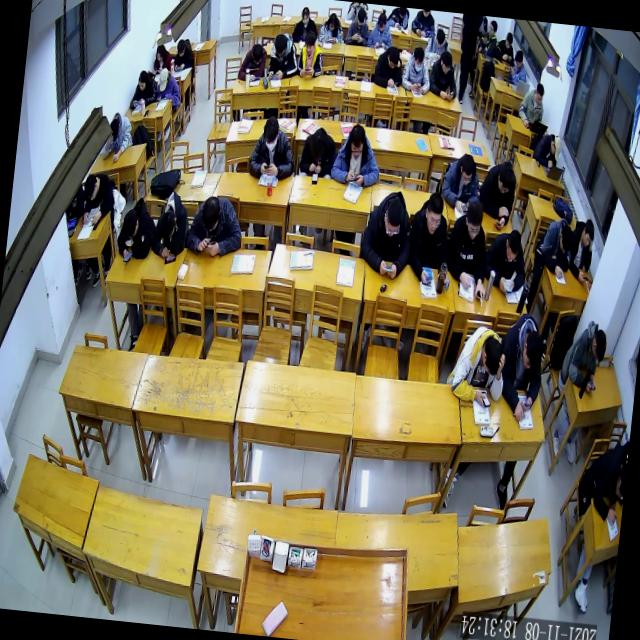bow: (185, 192, 246, 258), (150, 188, 192, 259), (114, 196, 158, 260), (532, 215, 574, 278), (100, 108, 134, 164), (532, 130, 562, 169), (386, 6, 409, 30)
down: (480, 336, 503, 376), (520, 331, 544, 368), (422, 193, 443, 235), (464, 199, 484, 239), (382, 198, 402, 237), (200, 196, 221, 233), (261, 116, 279, 152), (456, 154, 474, 187), (503, 230, 521, 263), (590, 329, 608, 362), (496, 160, 514, 192), (120, 208, 138, 238), (349, 125, 365, 158), (157, 210, 175, 238), (558, 223, 574, 252), (311, 128, 326, 158), (82, 173, 98, 200), (302, 30, 316, 59), (582, 217, 596, 246), (548, 134, 562, 160), (250, 42, 264, 66), (272, 34, 286, 58), (439, 50, 453, 74), (412, 47, 425, 72), (386, 46, 400, 69), (158, 67, 170, 92), (108, 118, 120, 142), (434, 29, 446, 49), (513, 48, 524, 69), (534, 82, 544, 102), (376, 13, 386, 32), (300, 6, 310, 24), (326, 11, 336, 29), (356, 6, 366, 24), (154, 45, 164, 62), (176, 41, 186, 58), (138, 70, 146, 90), (505, 30, 513, 48), (398, 7, 406, 17)
sit: (492, 311, 548, 423), (444, 322, 508, 406), (442, 200, 494, 302), (358, 188, 414, 281), (404, 192, 452, 284), (574, 444, 627, 524), (556, 315, 608, 394), (329, 122, 383, 187), (482, 227, 530, 294), (248, 114, 298, 178), (476, 159, 518, 230), (438, 150, 484, 214), (453, 13, 482, 102), (78, 170, 116, 226), (298, 126, 337, 179), (566, 216, 596, 282), (266, 29, 300, 79), (400, 44, 434, 93), (427, 48, 460, 98), (295, 30, 325, 80), (373, 44, 405, 88), (517, 81, 546, 129), (236, 40, 268, 81), (129, 68, 158, 109), (366, 11, 395, 48), (155, 66, 183, 104), (292, 6, 320, 44), (345, 7, 371, 45), (506, 50, 528, 86), (476, 18, 498, 54), (423, 27, 450, 56), (172, 36, 195, 70), (318, 12, 344, 42), (410, 8, 437, 36), (494, 30, 516, 64), (152, 42, 172, 73)
